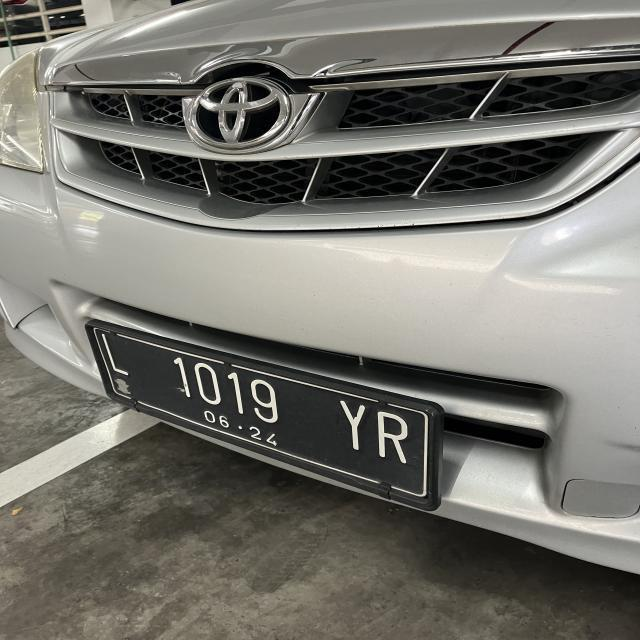0: (192, 357, 220, 409)
1: (228, 371, 246, 417), (171, 356, 190, 399)
9: (250, 375, 280, 427)
L: (100, 333, 130, 375)
R: (376, 408, 412, 462)
Y: (338, 400, 364, 454)
